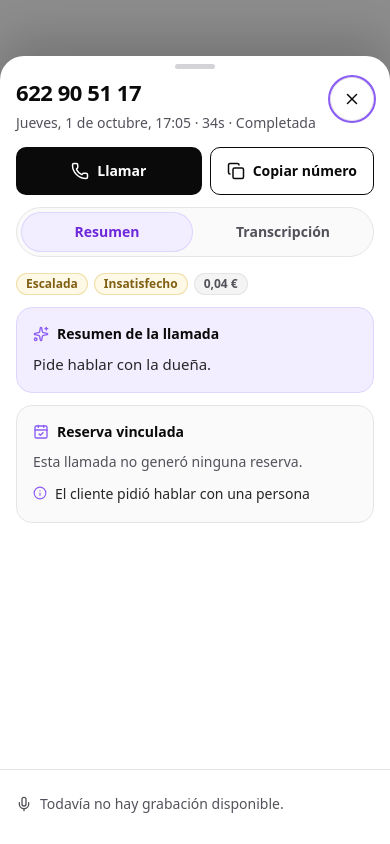
Test case: HojaLlamada › enseña la transcripción en su propia pestaña
Click the tab "Transcripción".
click(283, 232)  # box [197,212,369,252]
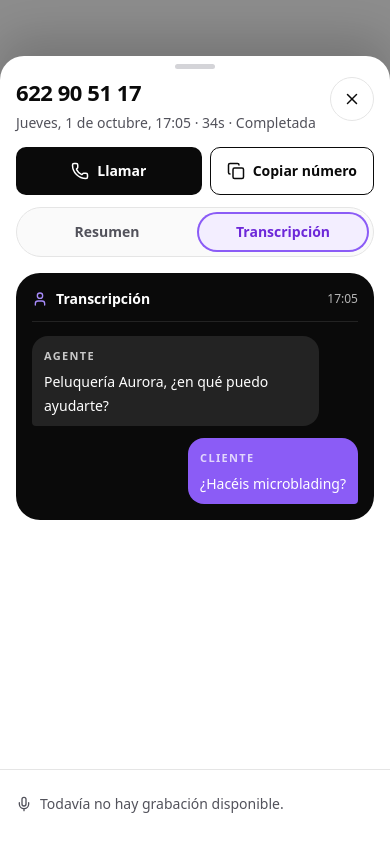
Check: the text "¿Hacéis microblading?" is shown, box [200,474,346,492]
